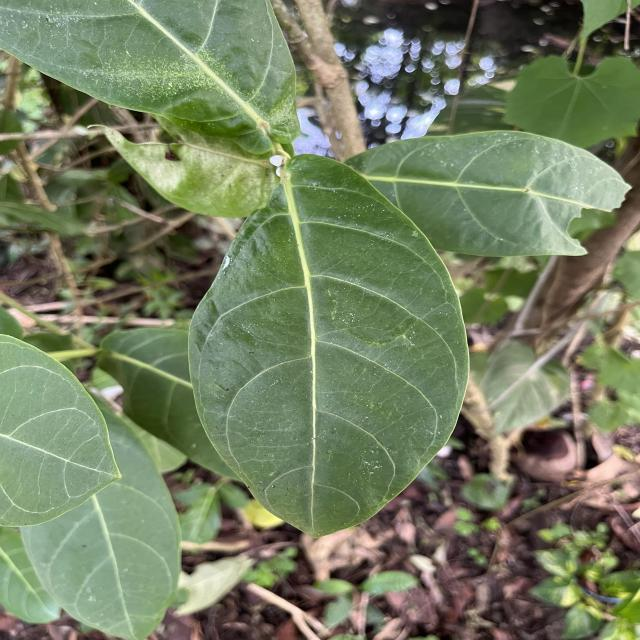Calotropis gigantea: (184, 152, 474, 544), (18, 387, 185, 639), (346, 128, 636, 258)
